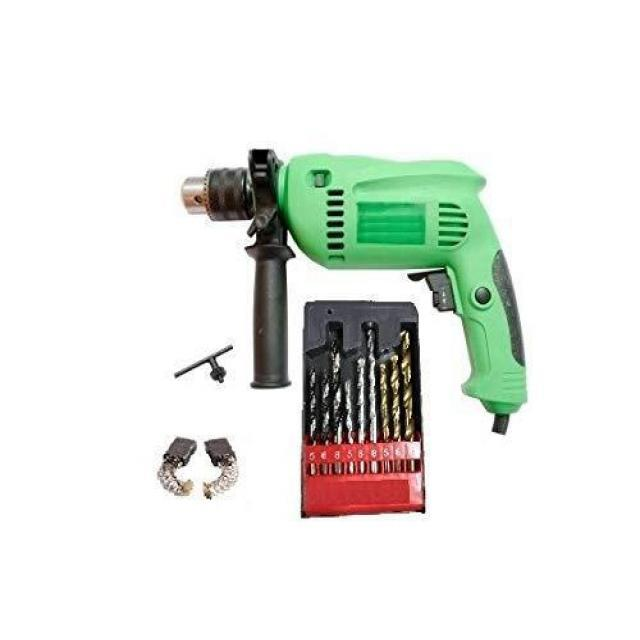drill: (180, 148, 530, 434)
